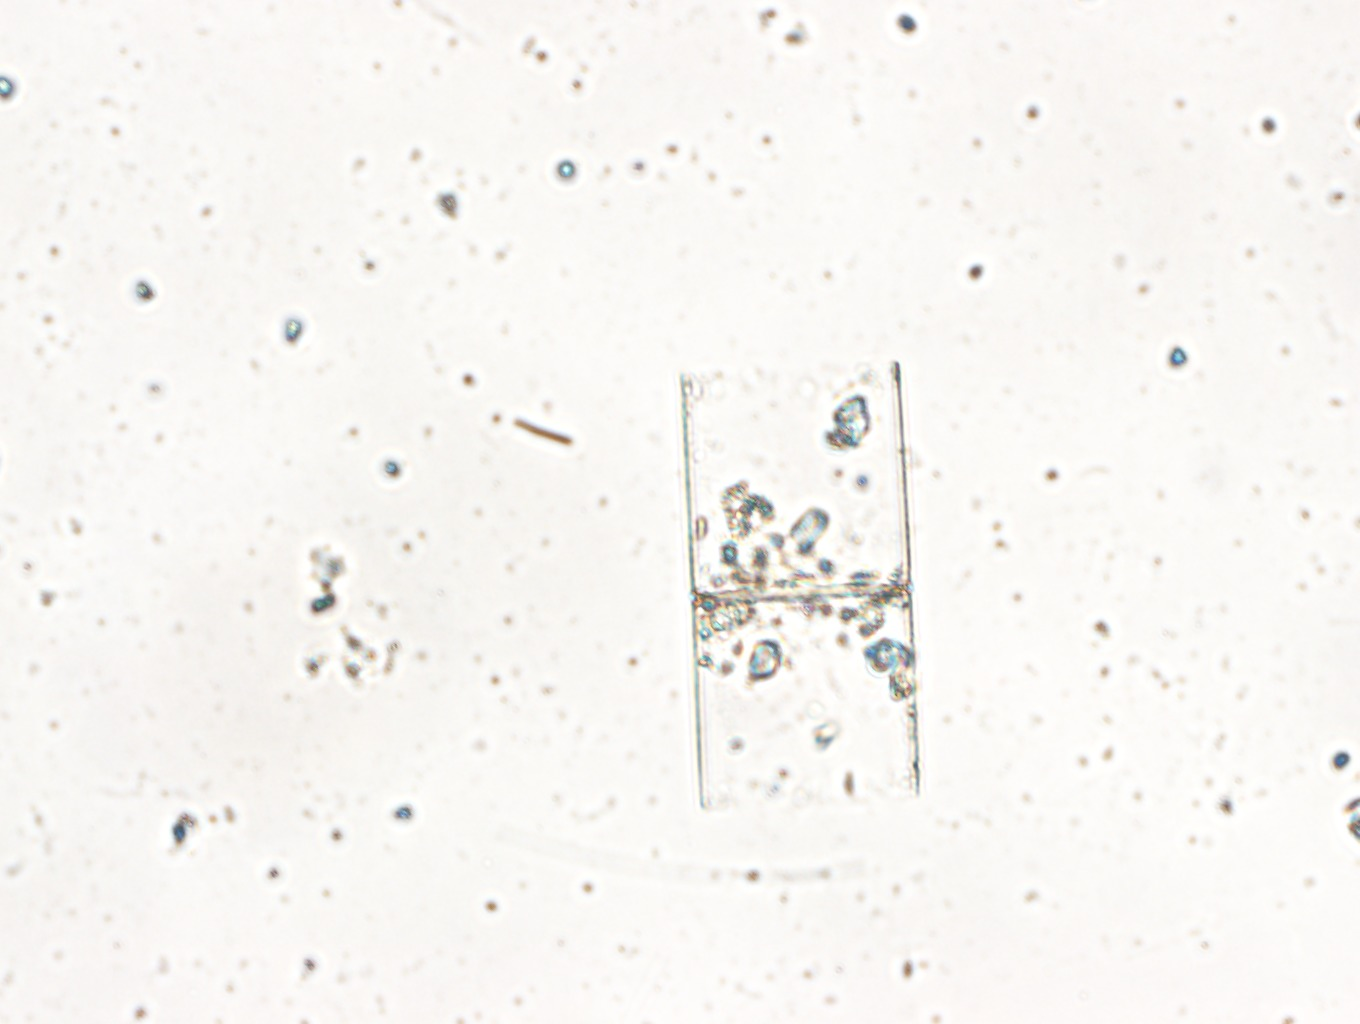guinardia flaccida: (679, 361, 921, 807)
